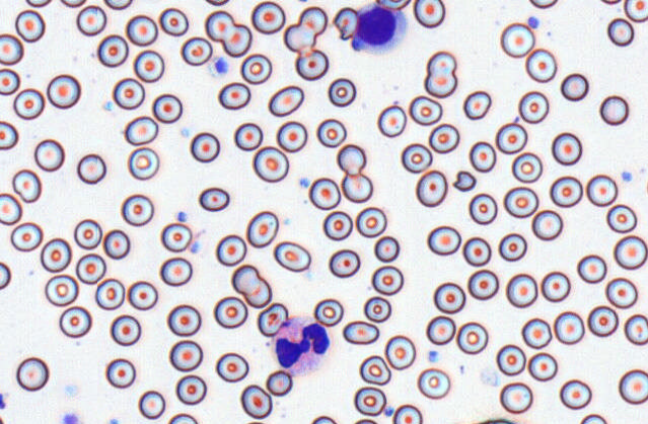GRAN: (273, 313, 334, 379)
LYM: (354, 2, 409, 57)
PLT: (58, 409, 85, 424), (214, 56, 230, 75), (348, 37, 366, 52), (620, 168, 634, 183), (527, 14, 541, 28), (174, 210, 189, 223), (298, 174, 311, 188), (428, 349, 441, 362), (384, 405, 397, 418), (107, 415, 124, 424)
RBC: (424, 50, 457, 98), (252, 145, 289, 182), (246, 210, 279, 248), (500, 22, 535, 57), (613, 234, 647, 270), (46, 73, 80, 109), (415, 169, 447, 207), (273, 240, 311, 272), (251, 0, 285, 34), (213, 295, 248, 328), (16, 356, 49, 391), (294, 47, 328, 80), (240, 384, 272, 419), (503, 186, 538, 218), (166, 304, 201, 336), (525, 47, 557, 82), (505, 273, 537, 308), (384, 334, 415, 370), (268, 85, 304, 116), (308, 177, 341, 210), (59, 305, 92, 338), (169, 339, 203, 371), (127, 146, 159, 180), (549, 175, 583, 207), (44, 274, 78, 306), (40, 237, 71, 272), (417, 367, 450, 399), (112, 77, 145, 109), (456, 321, 488, 354), (125, 14, 158, 46), (121, 193, 153, 226), (221, 23, 252, 57), (257, 302, 288, 336), (551, 131, 582, 165), (618, 368, 647, 404), (215, 234, 247, 266), (495, 122, 527, 154), (433, 281, 465, 313), (586, 174, 618, 206), (499, 382, 532, 413), (133, 49, 164, 82), (97, 34, 128, 67), (553, 311, 584, 344), (518, 90, 549, 123), (215, 352, 249, 382), (408, 95, 442, 125), (427, 225, 461, 255), (124, 115, 158, 145), (12, 168, 41, 203), (359, 354, 391, 385), (400, 142, 432, 173), (355, 206, 387, 237), (240, 53, 272, 84), (511, 151, 542, 183), (531, 209, 563, 240), (521, 317, 552, 349), (276, 120, 307, 152), (467, 269, 499, 300), (110, 314, 141, 346), (587, 305, 618, 337), (605, 277, 637, 308), (353, 386, 386, 416), (159, 256, 192, 286), (15, 9, 45, 42), (34, 138, 64, 171), (175, 374, 206, 405), (189, 131, 220, 162), (75, 253, 106, 284), (13, 88, 44, 119), (340, 173, 372, 203), (336, 143, 366, 175), (540, 270, 570, 302), (180, 36, 212, 66), (371, 265, 403, 295), (160, 222, 192, 252), (328, 248, 360, 278), (559, 379, 591, 409), (496, 344, 526, 376), (95, 278, 125, 310), (10, 221, 42, 251), (377, 104, 406, 137), (204, 10, 234, 41), (105, 358, 136, 388), (428, 123, 459, 153), (76, 4, 106, 35), (599, 94, 629, 125), (76, 153, 106, 184), (243, 276, 272, 308), (283, 23, 315, 52), (218, 81, 250, 110), (468, 192, 497, 224), (322, 210, 352, 240), (127, 280, 157, 310), (152, 93, 182, 123), (231, 264, 260, 295), (576, 254, 607, 283), (606, 204, 637, 233), (73, 218, 102, 249), (413, 0, 445, 28), (468, 140, 496, 172), (342, 320, 379, 344), (298, 6, 327, 36), (426, 315, 455, 345), (527, 352, 557, 381), (327, 77, 356, 107), (233, 122, 263, 151), (316, 118, 346, 147), (158, 7, 188, 36), (462, 236, 491, 266), (102, 228, 130, 259), (498, 232, 527, 261), (313, 298, 343, 326), (463, 90, 491, 120), (560, 72, 588, 101), (138, 390, 165, 419), (607, 17, 634, 46), (198, 186, 229, 211), (363, 295, 391, 322), (624, 313, 647, 345), (0, 33, 23, 65), (265, 369, 292, 396), (0, 192, 22, 225), (373, 235, 399, 262), (392, 404, 422, 423), (0, 68, 20, 95), (0, 120, 18, 149), (624, 0, 647, 22), (376, 0, 410, 10), (0, 261, 11, 289), (168, 413, 197, 423), (103, 0, 132, 10), (579, 413, 607, 423), (529, 0, 558, 8), (479, 417, 516, 423), (310, 415, 336, 423), (60, 0, 86, 7), (25, 0, 51, 7), (205, 0, 229, 6), (354, 418, 377, 423), (600, 0, 621, 5), (245, 420, 265, 424)
Schistocyte: (333, 7, 359, 41), (452, 168, 479, 193)
